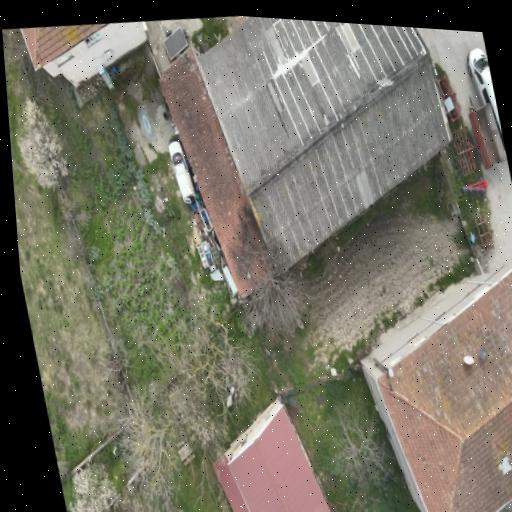bus: (467, 49, 506, 151)
car: (168, 141, 194, 202)
